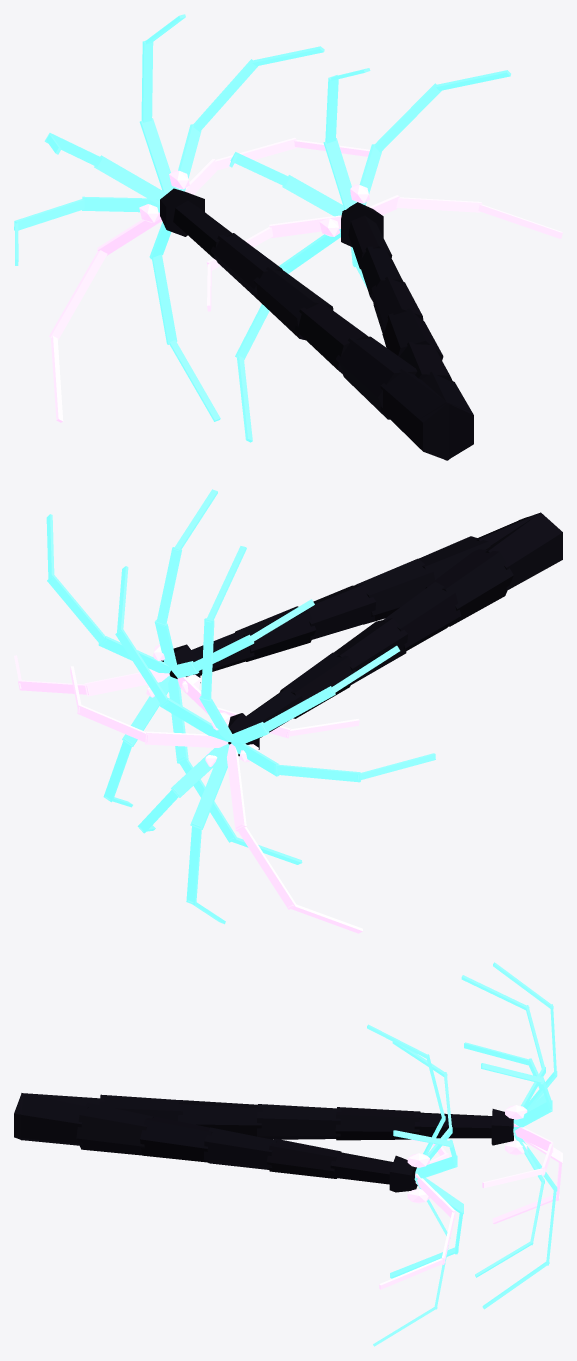
File: CyberNeonPalm.fbx
The picture shows the model from 3 angles, top to bottom: view 1: azimuth 30°, elevation 25°; view 2: azimuth 150°, elevation 25°; view 3: azimuth 270°, elevation 25°; orthographic projection. The views are drawn at different scales.
Parts seen in each view (by area): view 1: CNP_variant upright palm trunk, CNP_variant upright palm cyan fronds, CNP_variant leaning palm trunk, CNP_variant leaning palm cyan fronds, CNP_variant upright palm magenta fronds, CNP_variant leaning palm magenta fronds; view 2: CNP_variant upright palm trunk, CNP_variant upright palm cyan fronds, CNP_variant leaning palm trunk, CNP_variant leaning palm cyan fronds, CNP_variant upright palm magenta fronds, CNP_variant leaning palm magenta fronds; view 3: CNP_variant leaning palm trunk, CNP_variant upright palm trunk, CNP_variant upright palm cyan fronds, CNP_variant leaning palm cyan fronds, CNP_variant upright palm magenta fronds, CNP_variant leaning palm magenta fronds.
Part boxes in pixels (x1,y1,x2,y2): CNP_variant upright palm trunk: (160,188,471,460); CNP_variant upright palm cyan fronds: (14,14,324,421); CNP_variant leaning palm trunk: (341,202,473,460); CNP_variant leaning palm cyan fronds: (229,68,510,442); CNP_variant upright palm magenta fronds: (49,137,369,422); CNP_variant leaning palm magenta fronds: (206,184,562,311); CNP_variant upright palm trunk: (228,512,562,756); CNP_variant upright palm cyan fronds: (115,546,435,924); CNP_variant leaning palm trunk: (161,513,557,682); CNP_variant leaning palm cyan fronds: (46,489,314,864); CNP_variant upright palm magenta fronds: (70,666,362,933); CNP_variant leaning palm magenta fronds: (14,644,359,738); CNP_variant leaning palm trunk: (14,1093,417,1192); CNP_variant upright palm trunk: (20,1093,513,1145); CNP_variant upright palm cyan fronds: (461,962,557,1309); CNP_variant leaning palm cyan fronds: (367,1024,463,1346); CNP_variant upright palm magenta fronds: (482,1105,562,1223); CNP_variant leaning palm magenta fronds: (379,1139,455,1289).
Size of the model in its own units: 287 by 226 by 336.
